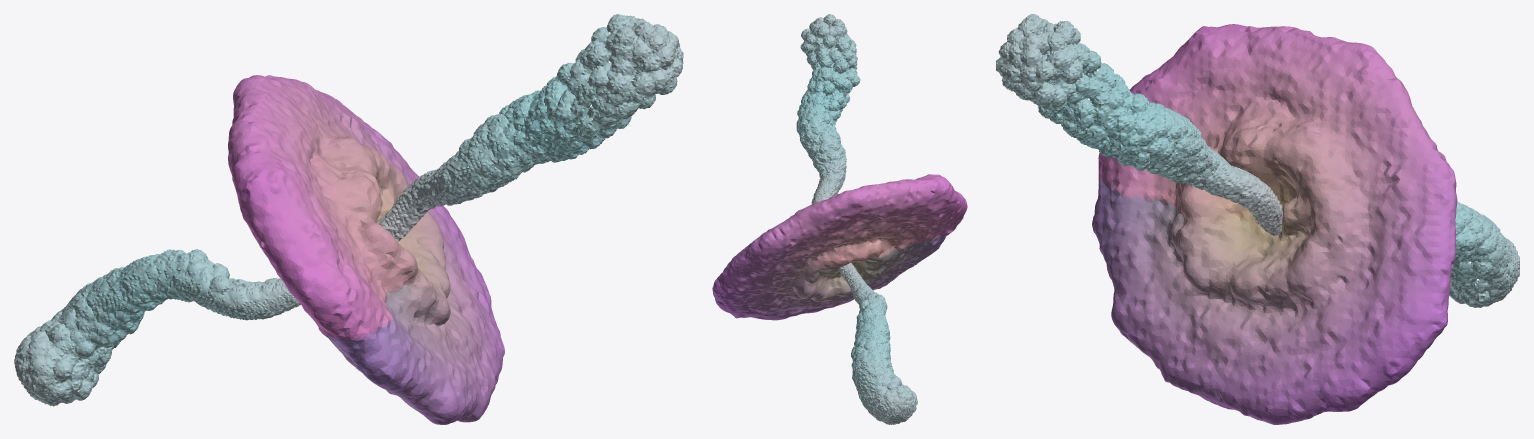
File: crab.glb
3 renders of one model, left to right at view 1: azimuth 30°, elevation 25°; view 2: azimuth 150°, elevation 25°; view 3: azimuth 270°, elevation 25°, orthographic. The views are drawn at different scales.
Parts seen in each view (by area): view 1: geometry_0; view 2: geometry_0; view 3: geometry_0.
Part boxes in pixels (<box>): geometry_0: <box>14,14,683,424</box>; geometry_0: <box>712,14,967,424</box>; geometry_0: <box>996,14,1519,424</box>.
Size of the model in its own units: 16.14 by 16.83 by 18.
